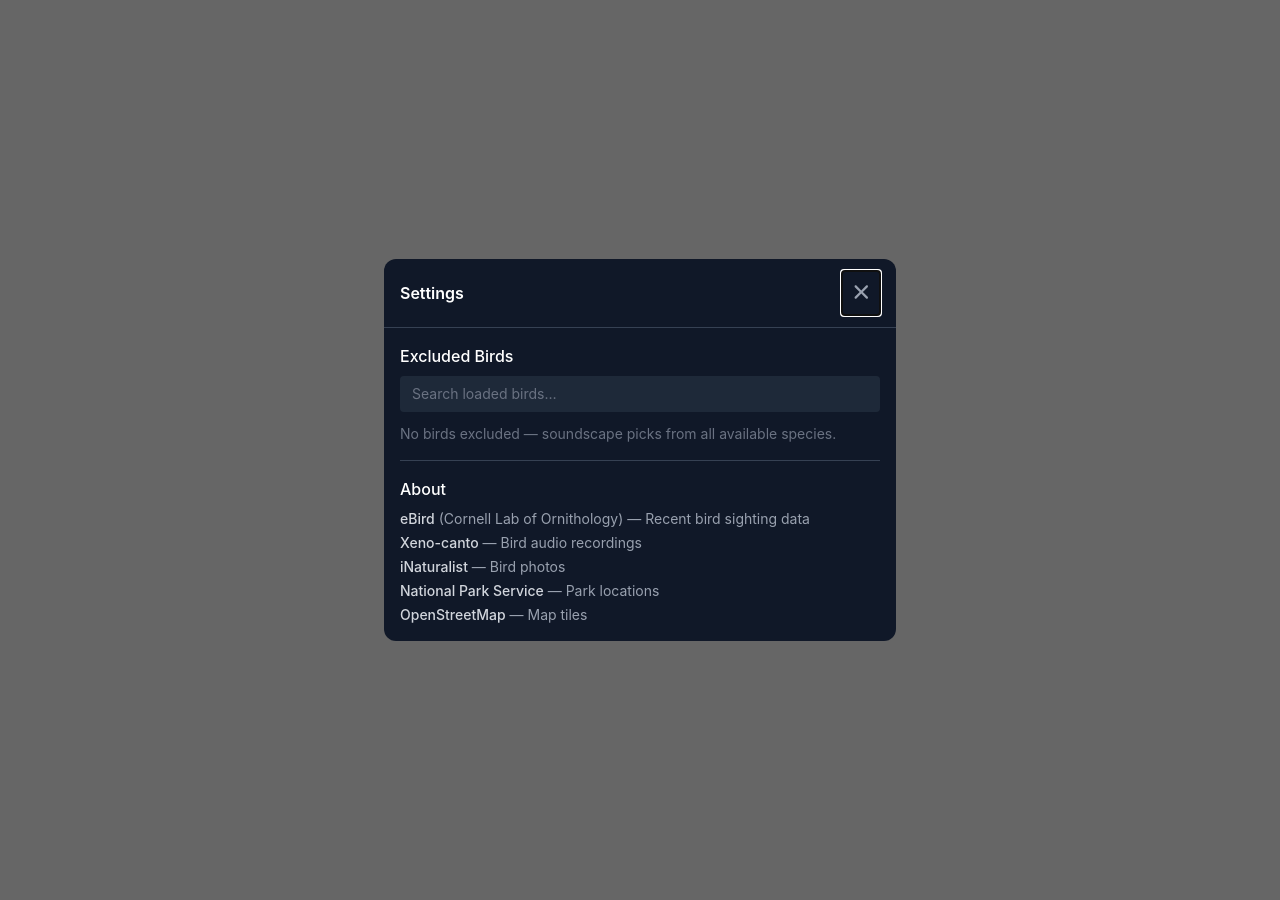
Scenario: SettingsModal › shows filtered results when typing a matching substring
This screenshot has width=1280, height=900.
In the field with placeholder "Search loaded birds…": (640, 394) [400, 376, 880, 412], type "canada"
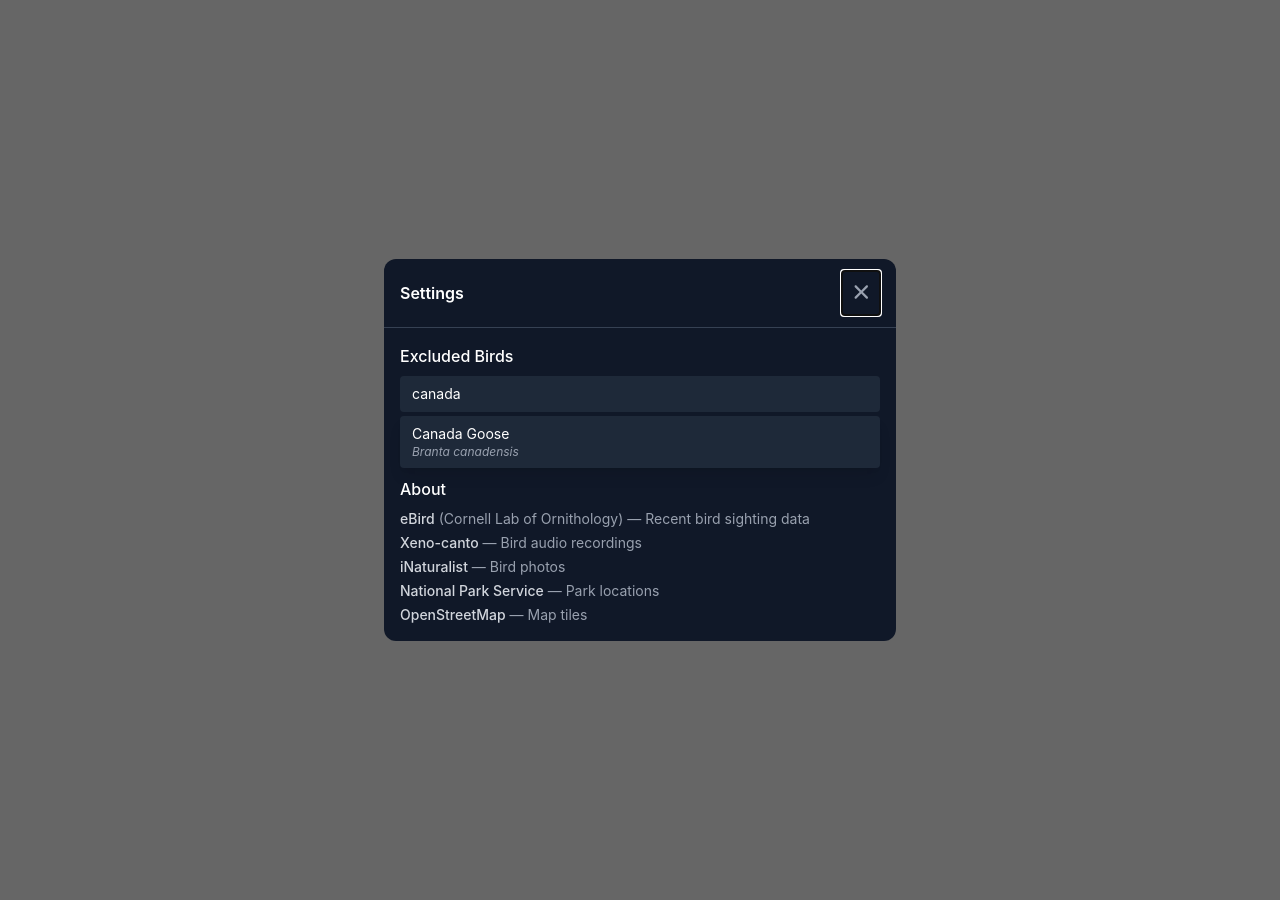
Result: the text "Canada Goose" is shown at [412, 425, 509, 442]
